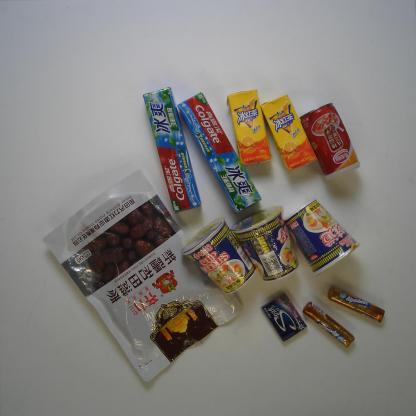Candy: (302, 301, 355, 349), (326, 286, 386, 323)
Canned Food: (299, 102, 362, 181)
Dried Food: (42, 167, 242, 384)
Drink: (261, 94, 318, 173), (226, 89, 272, 165)
Gum: (260, 292, 309, 342)
Instant Noodles: (180, 216, 257, 295), (285, 199, 361, 278), (230, 205, 300, 283)
Personal Hygiene: (176, 91, 263, 215), (143, 86, 202, 214)
